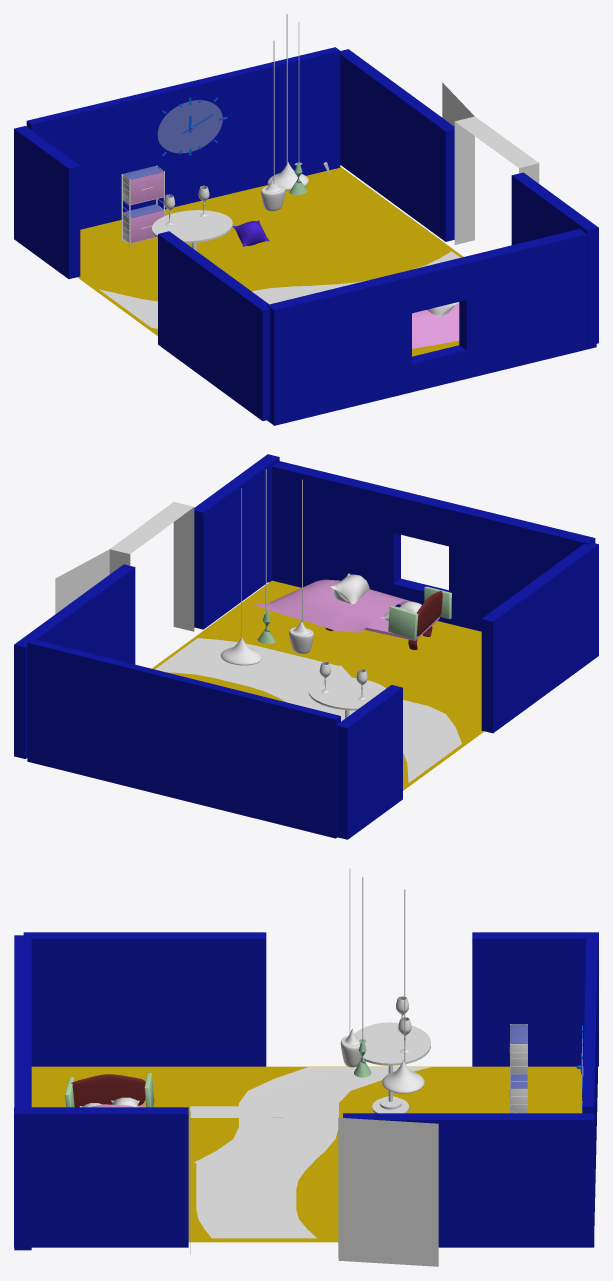
3 renders of one model, top to bottom at view 1: azimuth 30°, elevation 25°; view 2: azimuth 150°, elevation 25°; view 3: azimuth 270°, elevation 25°, orthographic. The views are drawn at different scales.
Parts seen in each view (by area): view 1: Rectangle002, Box010, Plane002, Box051, Box049, Box050, Box052, Pivot001, Cylinder086, Cylinder092, Plane001, Plane009 (+2 smaller); view 2: Box010, Rectangle002, Plane002, Box049, Box052, Box050, Box051, Pivot001, Plane008, Plane009, Plane001, Cylinder092 (+5 smaller); view 3: Box049, Box052, Plane002, Box051, Pivot001, Box050, Plane001, Plane008, Rectangle002, Box010, Cylinder092, Box005 (+2 smaller).
Boxes of the visible parts, left/top/right/bottom form: Rectangle002: left=267, top=229, right=596, bottom=425; Box010: left=26, top=47, right=340, bottom=229; Plane002: left=77, top=167, right=463, bottom=356; Box051: left=340, top=49, right=454, bottom=241; Box049: left=158, top=231, right=270, bottom=420; Box050: left=14, top=126, right=80, bottom=278; Box052: left=511, top=172, right=598, bottom=346; Pivot001: left=442, top=82, right=539, bottom=244; Cylinder086: left=157, top=100, right=222, bottom=153; Cylinder092: left=151, top=210, right=232, bottom=243; Plane001: left=99, top=285, right=322, bottom=328; Plane009: left=412, top=303, right=459, bottom=348; Box010: left=27, top=639, right=340, bottom=838; Rectangle002: left=268, top=461, right=595, bottom=631; Plane002: left=152, top=580, right=483, bottom=790; Box049: left=481, top=542, right=598, bottom=733; Box052: left=194, top=454, right=279, bottom=629; Box050: left=336, top=685, right=402, bottom=839; Box051: left=14, top=564, right=135, bottom=758; Pivot001: left=55, top=502, right=194, bottom=631; Plane008: left=155, top=638, right=342, bottom=703; Plane009: left=254, top=579, right=409, bottom=632; Plane001: left=293, top=665, right=461, bottom=782; Cylinder092: left=308, top=677, right=385, bottom=710; Box049: left=23, top=932, right=266, bottom=1066; Box052: left=14, top=1107, right=188, bottom=1247; Plane002: left=31, top=1066, right=583, bottom=1242; Box051: left=343, top=1113, right=594, bottom=1247; Pivot001: left=190, top=1106, right=438, bottom=1266; Box050: left=472, top=932, right=598, bottom=1066; Plane001: left=194, top=1067, right=430, bottom=1162; Plane008: left=196, top=1160, right=316, bottom=1238; Rectangle002: left=14, top=935, right=31, bottom=1250; Box010: left=582, top=933, right=597, bottom=1225; Cylinder092: left=355, top=1022, right=430, bottom=1065; Box005: left=71, top=1074, right=145, bottom=1107.
Size of the model in its own units: 15046 by 10053 by 18365.
